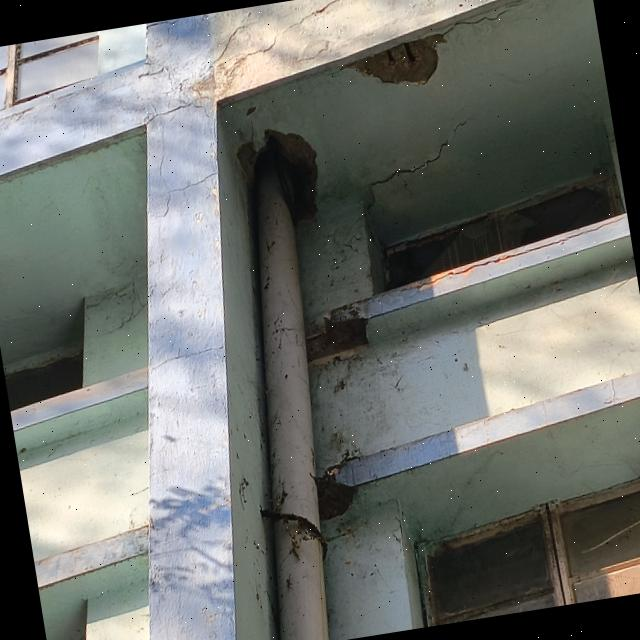Crack: (391, 212, 626, 296), (344, 108, 481, 248), (191, 0, 360, 103), (441, 0, 539, 40), (145, 337, 232, 376), (154, 166, 218, 198), (142, 101, 211, 129), (130, 59, 179, 96), (145, 17, 184, 33)
Scaling: (265, 129, 318, 219)
Spalling: (344, 34, 445, 84), (302, 307, 381, 370), (313, 447, 368, 531)
